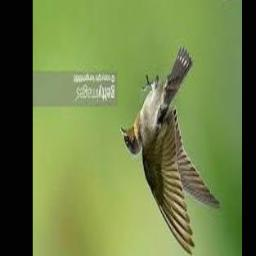Swallow: (120, 47, 221, 255)
